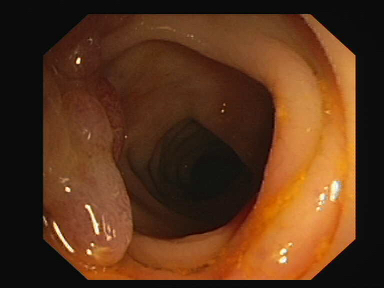polyp: (54, 58, 131, 269)
